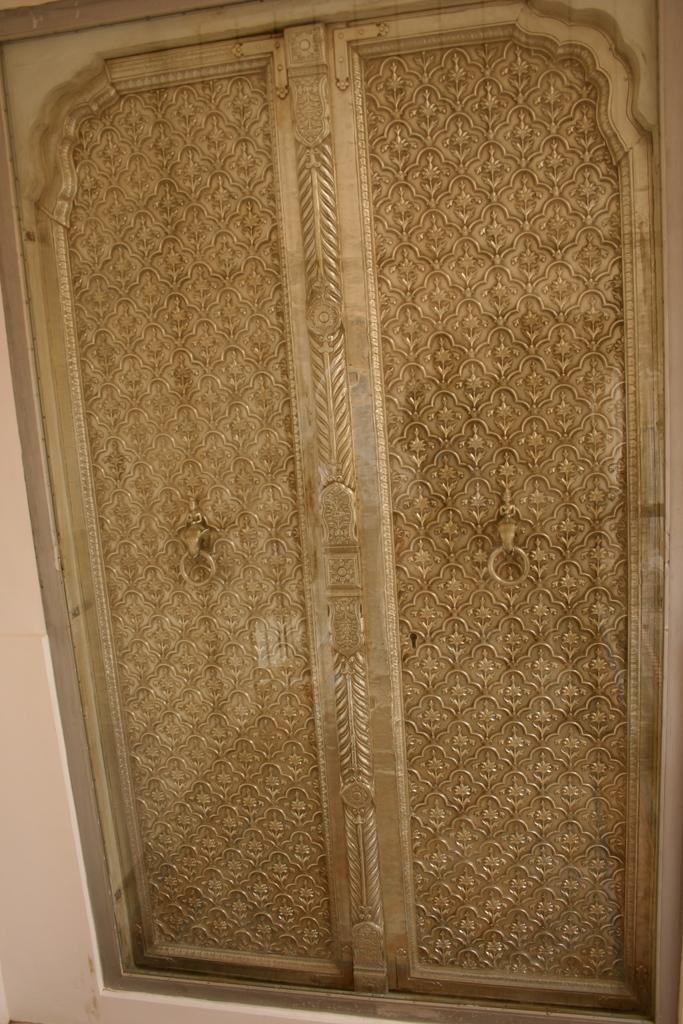handle: (479, 530, 534, 594), (176, 538, 218, 596)
